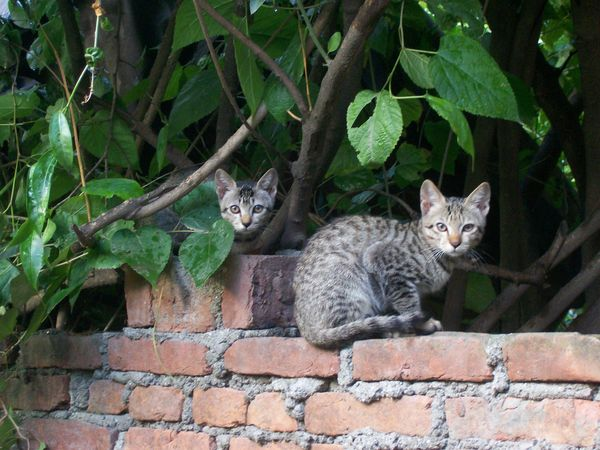cat: (281, 165, 515, 351), (138, 157, 277, 243)
